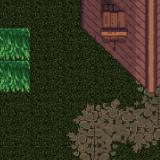Obstacle: (29, 0, 160, 29)
Slow: (0, 29, 30, 92)
